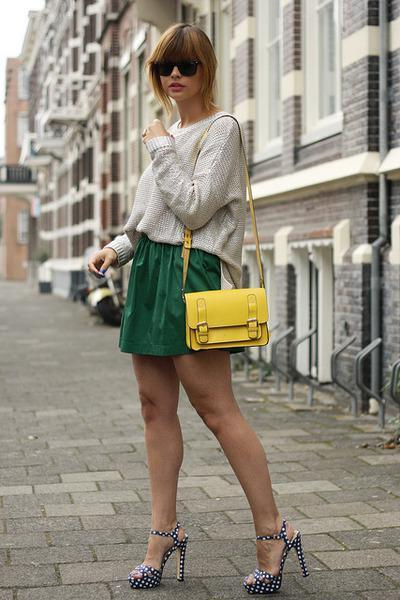skirt: (115, 235, 236, 359)
sweater: (111, 109, 252, 281)
